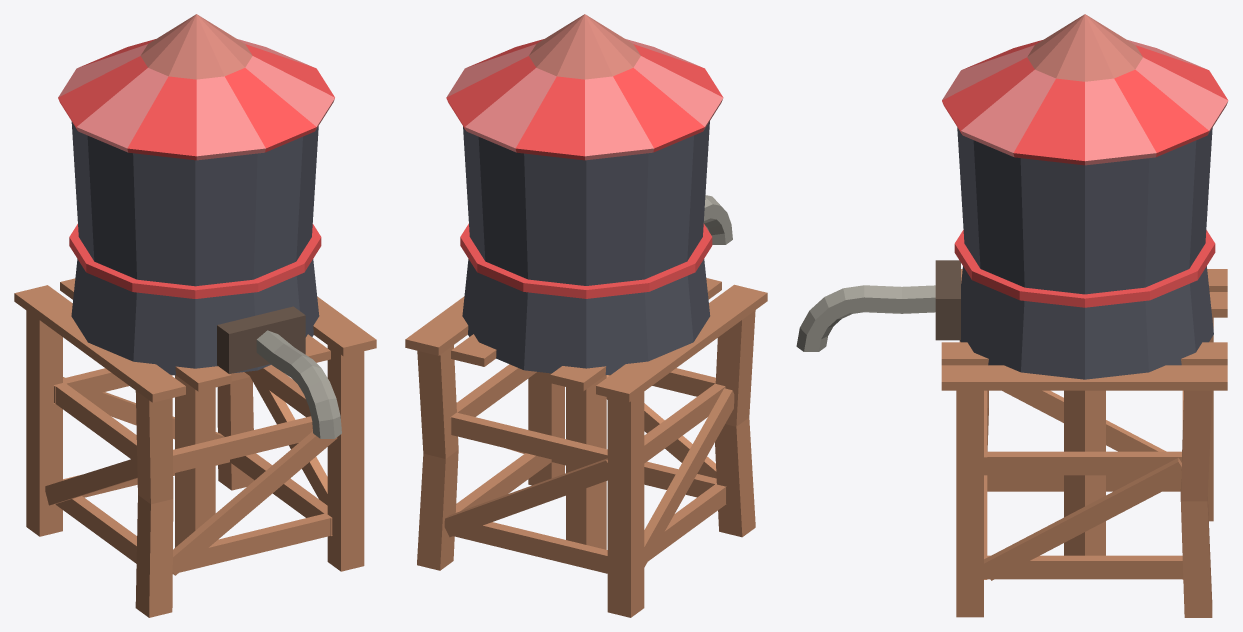
File: Cottage_7.fbx
The picture shows the model from 3 angles, left to right: view 1: azimuth 30°, elevation 25°; view 2: azimuth 150°, elevation 25°; view 3: azimuth 270°, elevation 25°; orthographic projection. The views are drawn at different scales.
Parts seen in each view (by area): view 1: Cottage_7; view 2: Cottage_7; view 3: Cottage_7.
Part boxes in pixels (x1,y1,x2,y2): Cottage_7: [14, 14, 376, 617]; Cottage_7: [405, 14, 767, 617]; Cottage_7: [796, 14, 1228, 617].
Bounding box in the file's own units: 113 × 171 × 240.
